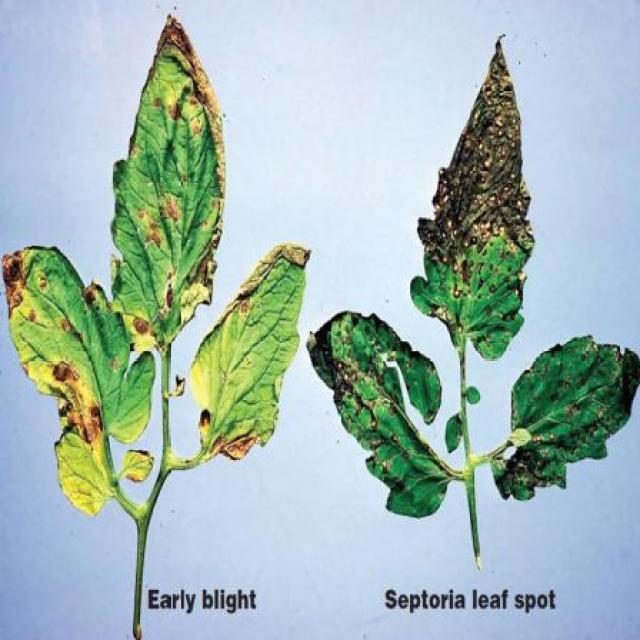Early Blight: (1, 243, 156, 521), (112, 12, 225, 351), (190, 244, 316, 459)
Septoria: (409, 31, 535, 358), (307, 309, 453, 520), (494, 332, 639, 502)
